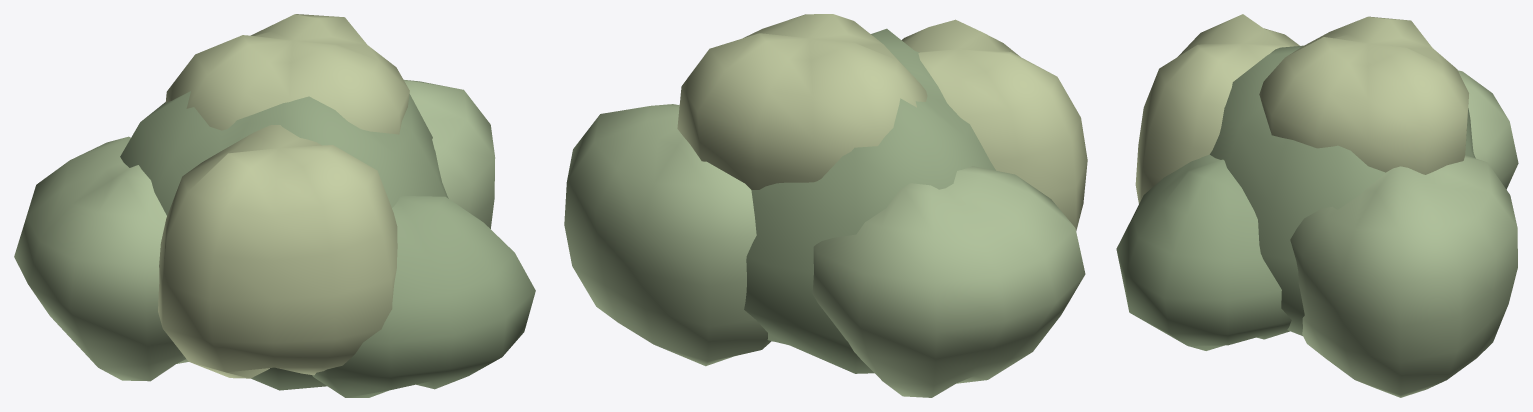
File: bush_cluster.glb
The picture shows the model from 3 angles, left to right: view 1: azimuth 30°, elevation 25°; view 2: azimuth 150°, elevation 25°; view 3: azimuth 270°, elevation 25°; orthographic projection. The views are drawn at different scales.
Visible parts, largest first — view 1: bush_cluster; view 2: bush_cluster; view 3: bush_cluster.
Part boxes in pixels (x1,y1,x2,y2): bush_cluster: (14,14,535,397); bush_cluster: (564,14,1087,397); bush_cluster: (1116,14,1518,397).
Size of the model in its own units: 2.05 by 1.35 by 1.61.
